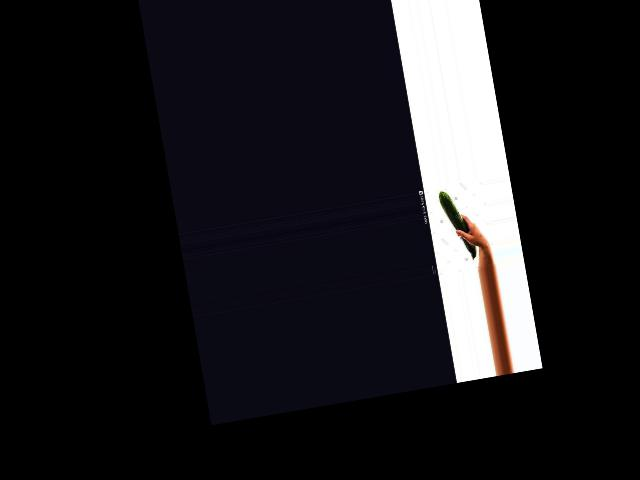cucumber: (437, 187, 478, 264)
